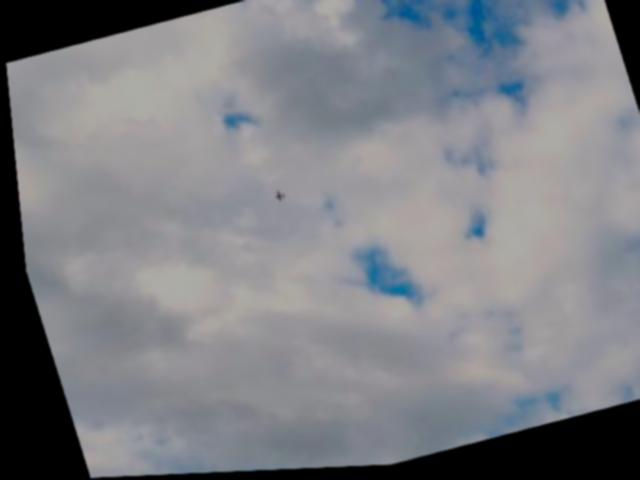uav: (267, 189, 283, 206)
